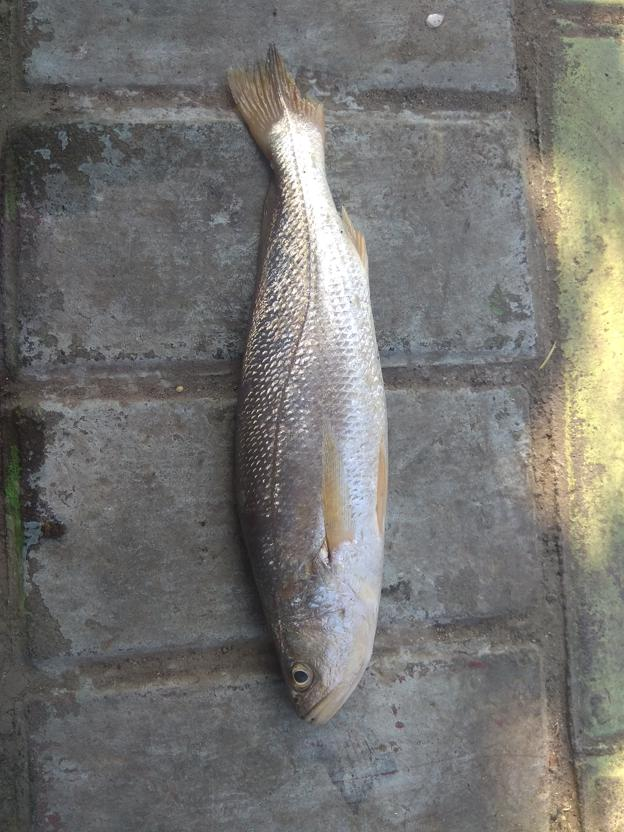Fish head: (250, 579, 386, 727)
Fish tail: (220, 44, 331, 153)
